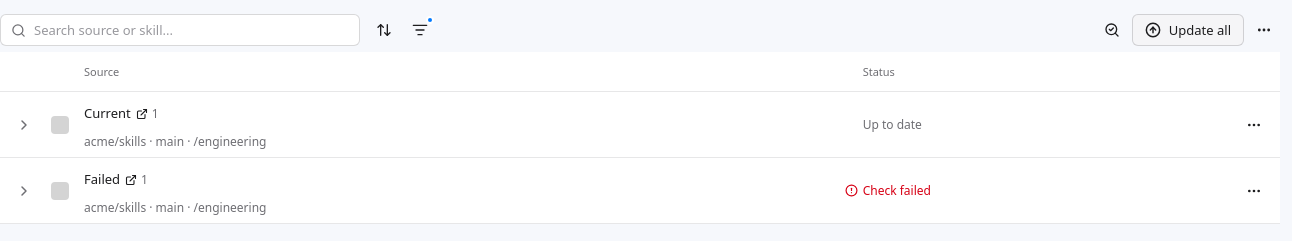
Test: SkillSourceView › shows zero changes and retains error information when sorted by changes
The width and height of the screenshot is (1292, 241).
Click the button named "Sort sources: Name" at point(384, 30), box [368,14,400,46]
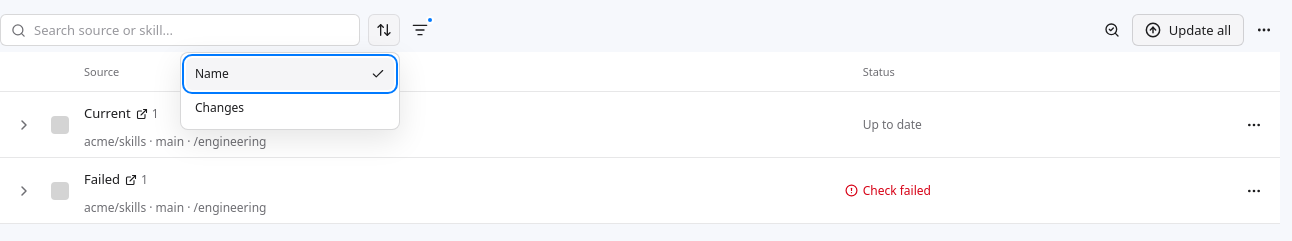
Click the menu item "Changes" at point(290, 108), box [186,92,394,124]
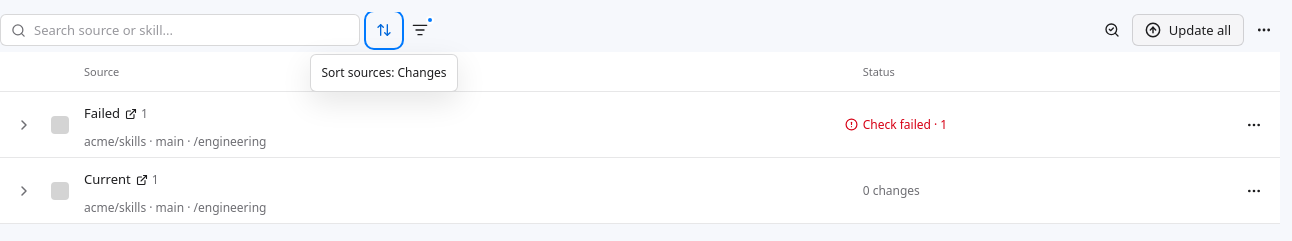
Check: the text "0 changes" is shown, box [863,182,920,199]
Check: the text "Check failed · 1" is shown, box [863,116,947,133]
